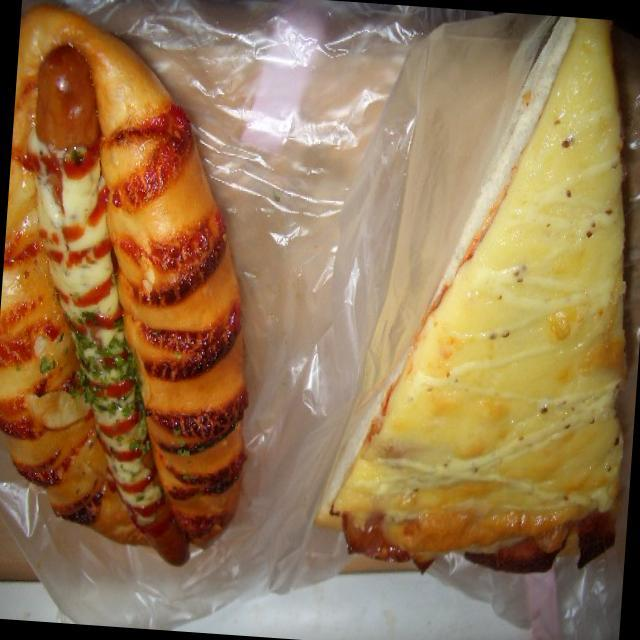Pizza: (322, 2, 640, 603)
